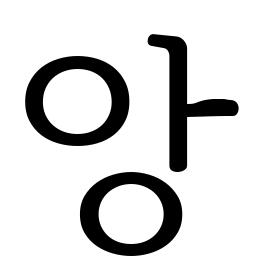Gaji: (157, 87, 209, 132)
